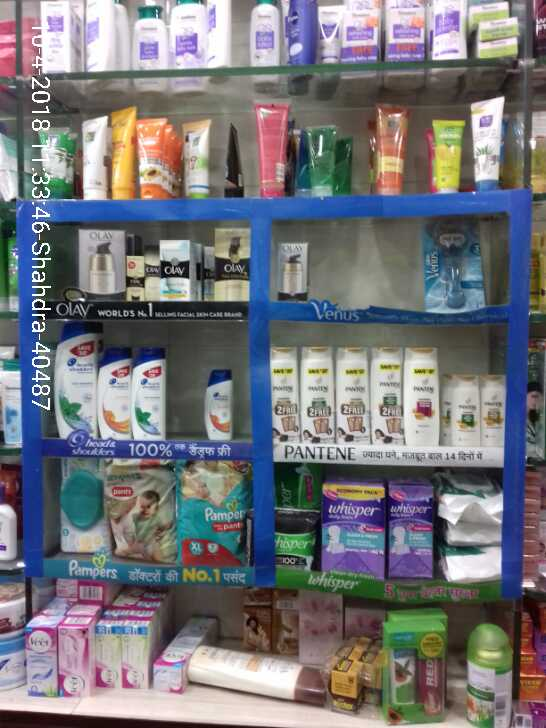venus: (422, 217, 487, 306)
